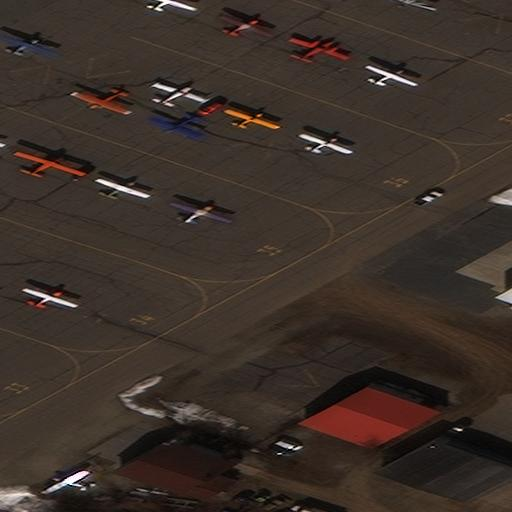Small Civil Transport: (16, 150, 86, 175), (69, 89, 127, 115), (292, 36, 350, 60), (173, 201, 233, 223), (156, 81, 208, 105), (146, 114, 198, 137), (0, 34, 59, 54), (97, 177, 150, 198), (24, 287, 78, 307), (226, 107, 280, 127), (220, 14, 271, 35), (302, 132, 353, 153), (367, 64, 418, 85), (41, 470, 85, 492), (147, 0, 197, 10), (389, 0, 434, 11)
